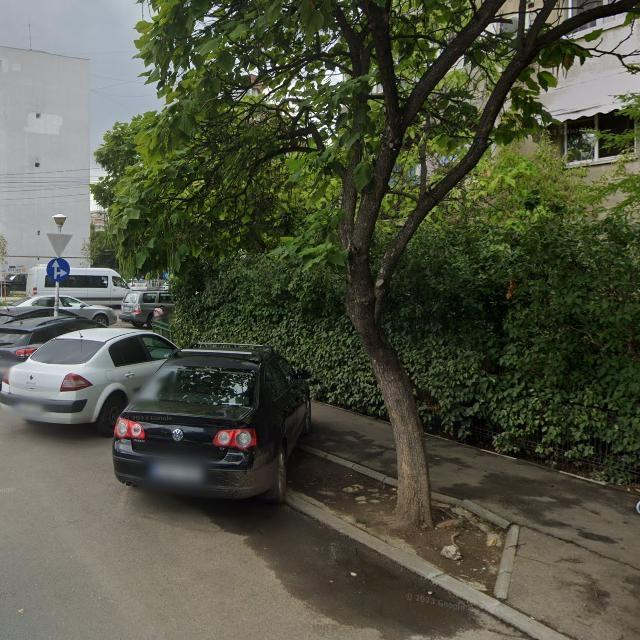prio_give_way: (47, 234, 73, 258)
